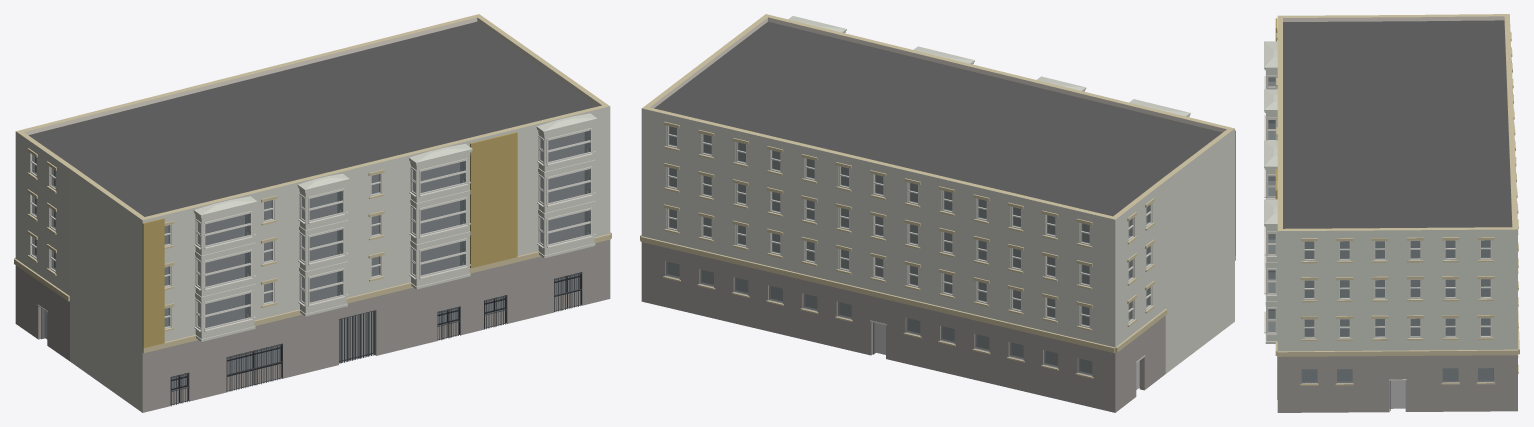
Rendered from exterior.glb.
3 views of the same model, side by side, from view 1: azimuth 30°, elevation 25°; view 2: azimuth 150°, elevation 25°; view 3: azimuth 270°, elevation 25° (orthographic). The views are drawn at different scales.
Parts seen in each view (by area): view 1: shell, roof, bay-glazing-hyb, bay-windows-hyb, shadow-proxy, front-dressing, storefront, glazing, trim, frames; view 2: shell, roof, glazing, trim, shadow-proxy, frames, bay-windows-hyb; view 3: roof, shell, trim, glazing, shadow-proxy, bay-windows-hyb, frames, bay-glazing-hyb.
Boxes of the visible parts, x1=… form: shell: x1=15, y1=14, x2=610, y2=412; roof: x1=28, y1=21, x2=597, y2=216; bay-glazing-hyb: x1=194, y1=127, x2=595, y2=331; bay-windows-hyb: x1=193, y1=113, x2=597, y2=341; shadow-proxy: x1=35, y1=132, x2=584, y2=388; front-dressing: x1=142, y1=132, x2=517, y2=352; storefront: x1=37, y1=272, x2=582, y2=406; glazing: x1=32, y1=155, x2=579, y2=388; trim: x1=14, y1=148, x2=611, y2=353; frames: x1=30, y1=153, x2=381, y2=328; shell: x1=641, y1=14, x2=1234, y2=412; roof: x1=654, y1=21, x2=1222, y2=216; glazing: x1=665, y1=126, x2=1149, y2=375; trim: x1=640, y1=121, x2=1235, y2=378; shadow-proxy: x1=668, y1=126, x2=1146, y2=389; frames: x1=667, y1=125, x2=1151, y2=328; bay-windows-hyb: x1=788, y1=16, x2=1190, y2=116; roof: x1=1283, y1=20, x2=1512, y2=228; shell: x1=1277, y1=14, x2=1517, y2=412; trim: x1=1275, y1=30, x2=1519, y2=385; glazing: x1=1301, y1=240, x2=1493, y2=383; shadow-proxy: x1=1302, y1=240, x2=1493, y2=408; bay-windows-hyb: x1=1264, y1=41, x2=1277, y2=343; frames: x1=1303, y1=240, x2=1491, y2=338; bay-glazing-hyb: x1=1264, y1=70, x2=1276, y2=335.
Size of the model in its own units: 32.46 by 12.58 by 16.03.
